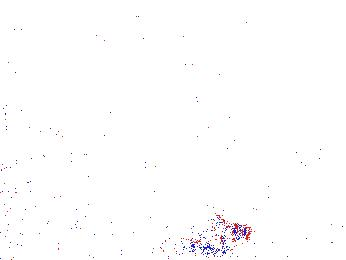X-ray fish: (6, 102, 67, 144), (194, 214, 252, 257), (133, 163, 197, 195), (278, 141, 335, 170), (1, 11, 27, 42)
